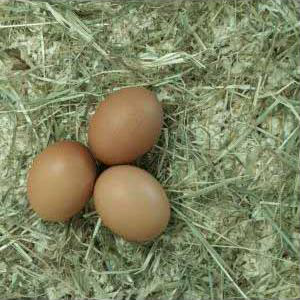egg: (94, 164, 172, 245), (86, 87, 164, 165), (28, 141, 93, 222)
